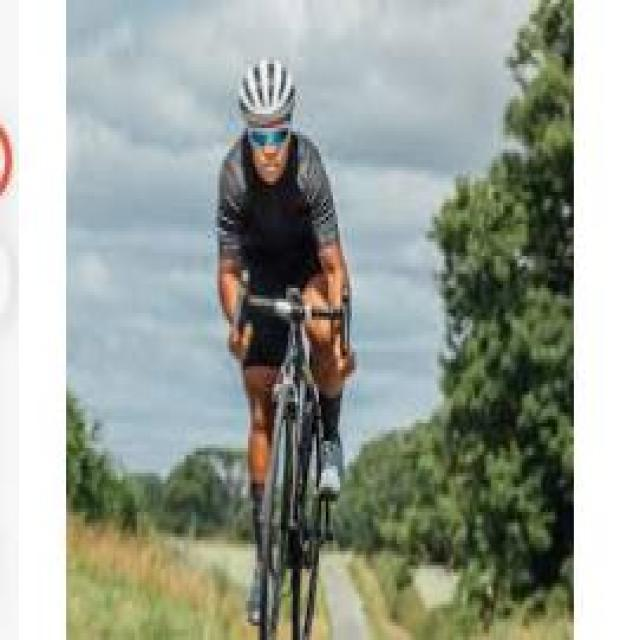bicycle: (246, 289, 353, 638)
